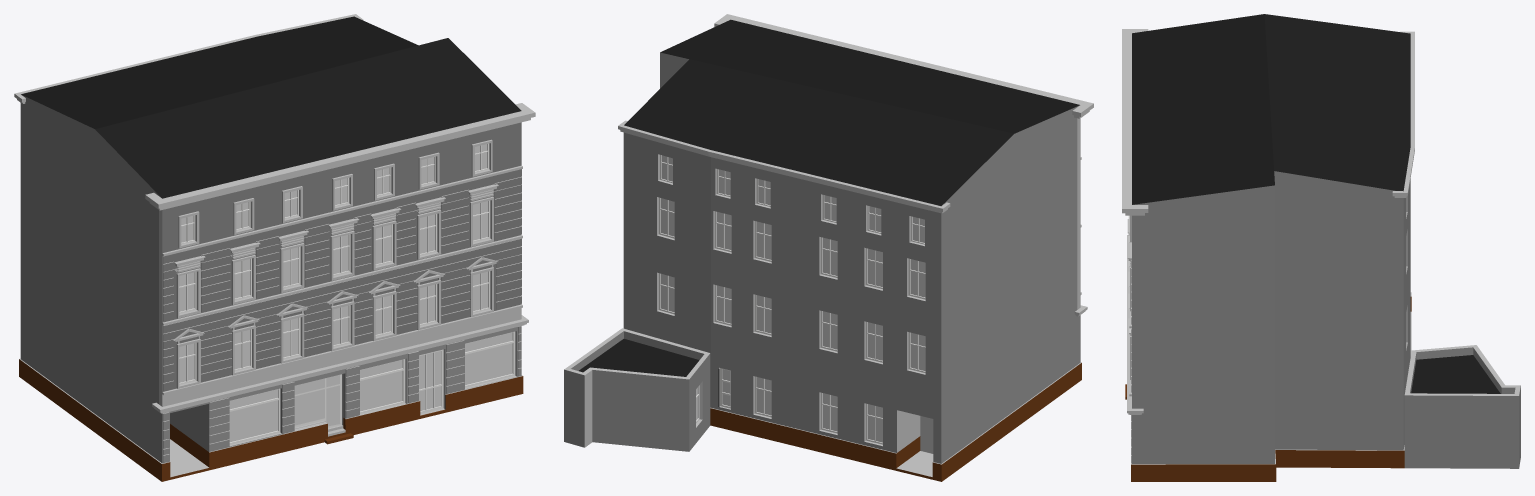
File: Cinco.FBX
The picture shows the model from 3 angles, left to right: view 1: azimuth 30°, elevation 25°; view 2: azimuth 150°, elevation 25°; view 3: azimuth 270°, elevation 25°; orthographic projection. The views are drawn at different scales.
Parts seen in each view (by area): view 1: Group005, OKNO_R1_15, WITRYNA_02, DRZWI_R10_; view 2: Group005, OKNO_R1_43; view 3: Group005.
Boxes of the visible parts, bbox=[...] form: Group005: bbox=[14, 14, 535, 481]; OKNO_R1_15: bbox=[179, 143, 491, 386]; WITRYNA_02: bbox=[229, 331, 516, 446]; DRZWI_R10_: bbox=[418, 349, 445, 415]; Group005: bbox=[564, 14, 1093, 481]; OKNO_R1_43: bbox=[657, 154, 925, 446]; Group005: bbox=[1122, 14, 1520, 481].
Size of the model in its own units: 929 by 712 by 869.
